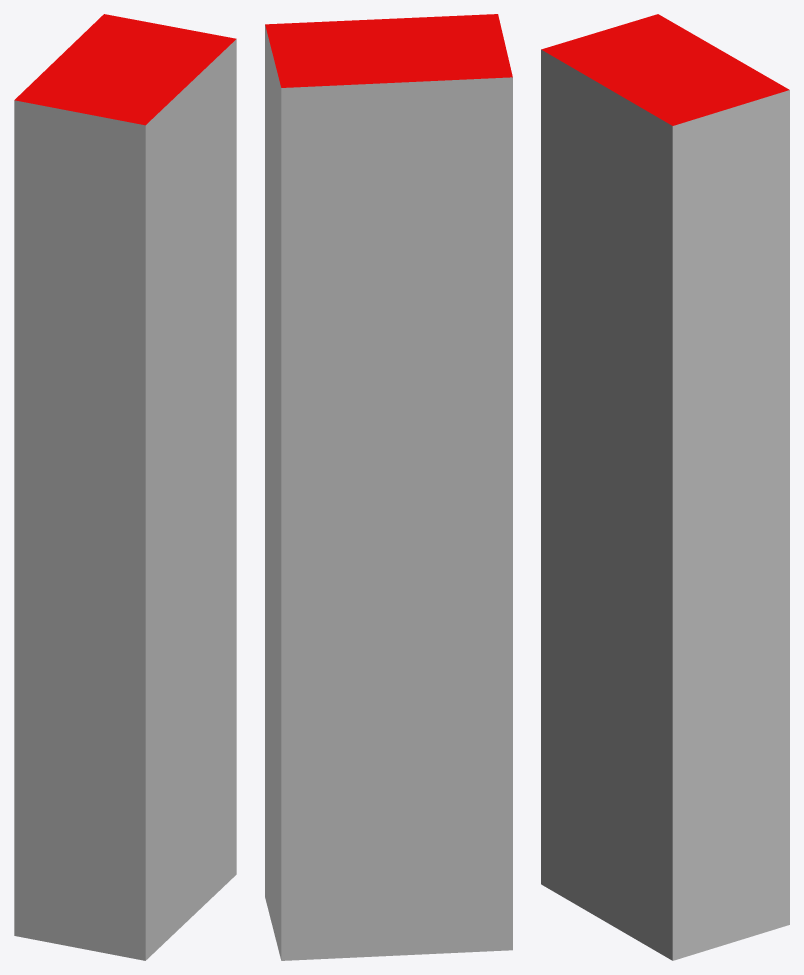
3 views of the same model, side by side, from view 1: azimuth 30°, elevation 25°; view 2: azimuth 150°, elevation 25°; view 3: azimuth 270°, elevation 25° (orthographic). The views are drawn at different scales.
Bounding box in the file's own units: 1.73 × 6 × 1.62.
